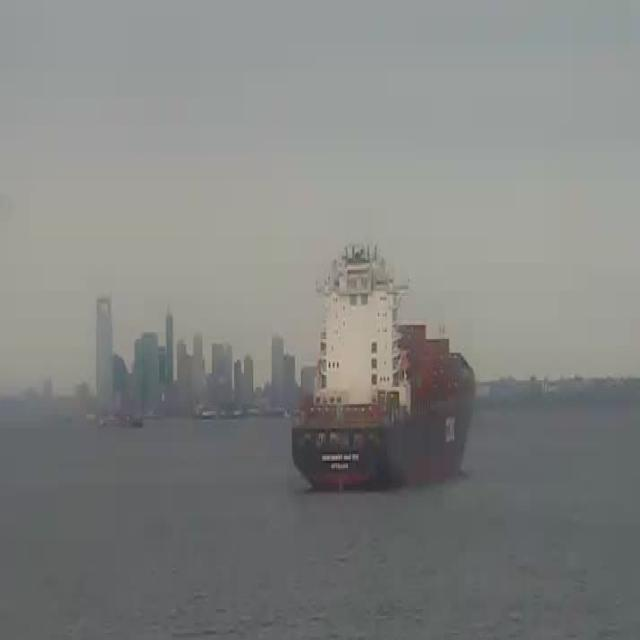cargoship: (288, 248, 474, 488)
